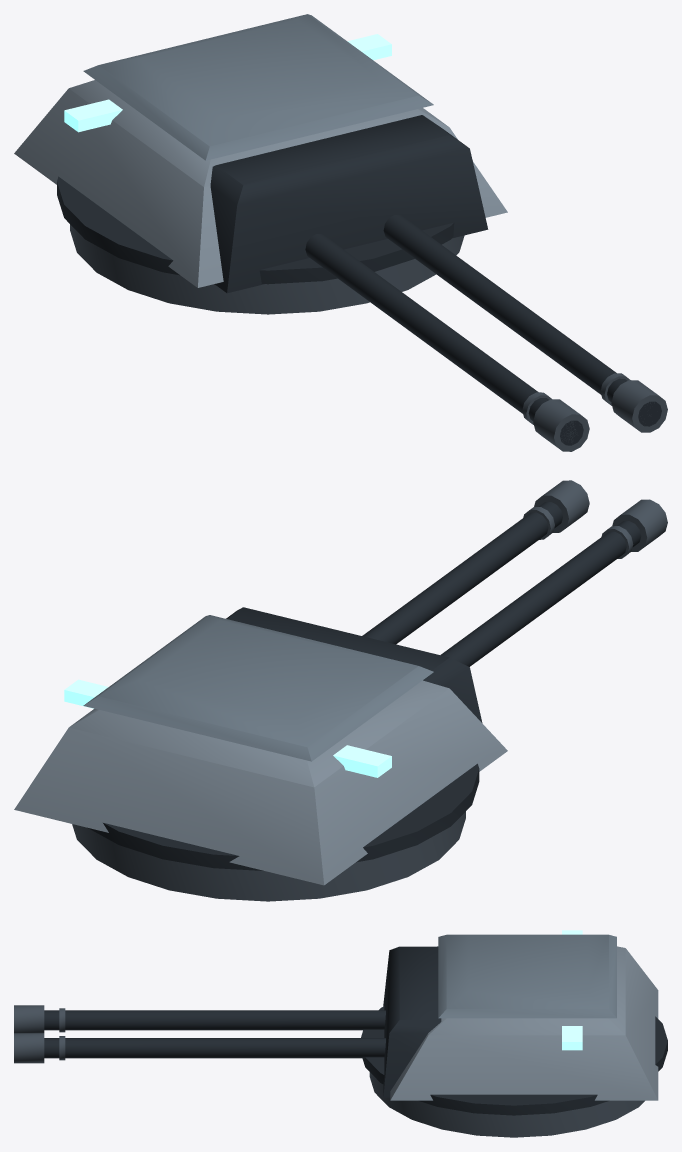
The model's file is arena_weapon_cannon.glb.
3 views of the same model, one above another, from view 1: azimuth 30°, elevation 25°; view 2: azimuth 150°, elevation 25°; view 3: azimuth 270°, elevation 25° (orthographic). The views are drawn at different scales.
Parts seen in each view (by area): view 1: mantlet, turret_top, turret_body, base, barrel_R_tube, barrel_L_tube, base_ring, barrel_L_brake, turret_team, barrel_R_brake; view 2: turret_body, turret_top, base, base_ring, barrel_L_tube, barrel_R_tube, mantlet, turret_team, barrel_L_brake, barrel_R_brake; view 3: turret_body, turret_top, barrel_R_tube, barrel_L_tube, mantlet, base, base_ring, barrel_R_brake, barrel_L_brake, turret_team.
Boxes of the visible parts, x1,y1,x2,y2 form: mantlet: (210, 115, 488, 293); turret_top: (83, 14, 433, 160); turret_body: (14, 80, 507, 287); base: (70, 224, 464, 314); barrel_R_tube: (383, 215, 661, 426); barrel_L_tube: (305, 234, 583, 445); base_ring: (57, 176, 454, 284); barrel_L_brake: (522, 392, 589, 451); turret_team: (64, 34, 391, 132); barrel_R_brake: (600, 373, 667, 432); turret_body: (14, 680, 507, 885); turret_top: (83, 615, 433, 761); base: (72, 811, 465, 901); base_ring: (87, 763, 479, 870); barrel_L_tube: (440, 521, 641, 666); barrel_R_tube: (362, 502, 562, 644); mantlet: (226, 607, 482, 723); turret_team: (64, 679, 391, 777); barrel_L_brake: (601, 499, 667, 558); barrel_R_brake: (523, 480, 589, 539); turret_body: (390, 946, 658, 1100); turret_top: (438, 934, 616, 1018); barrel_R_tube: (44, 1038, 385, 1058); barrel_L_tube: (44, 1010, 385, 1030); mantlet: (383, 946, 441, 1097); base: (369, 1072, 644, 1137); base_ring: (361, 1006, 667, 1115); barrel_R_brake: (14, 1033, 65, 1063); barrel_L_brake: (14, 1005, 65, 1032); turret_team: (562, 930, 582, 1050).
Bounding box in the file's own units: 9.86 × 4 × 20.93.
